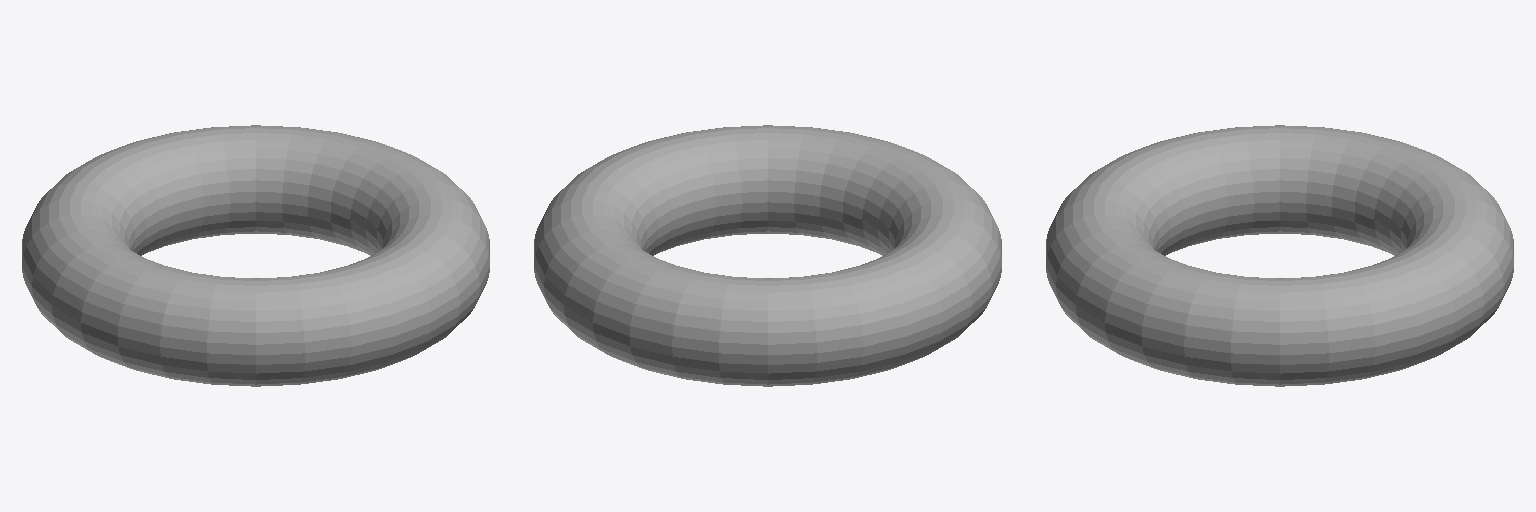
3 views of the same model, side by side, from view 1: azimuth 30°, elevation 25°; view 2: azimuth 150°, elevation 25°; view 3: azimuth 270°, elevation 25° (orthographic).
Parts seen in each view (by area): view 1: Ring; view 2: Ring; view 3: Ring.
Boxes of the visible parts, x1,y1,x2,y2 form: Ring: [22, 125, 489, 386]; Ring: [534, 125, 1001, 386]; Ring: [1046, 125, 1513, 386].
Bounding box in the file's own units: 2.6 × 0.5967 × 2.59.